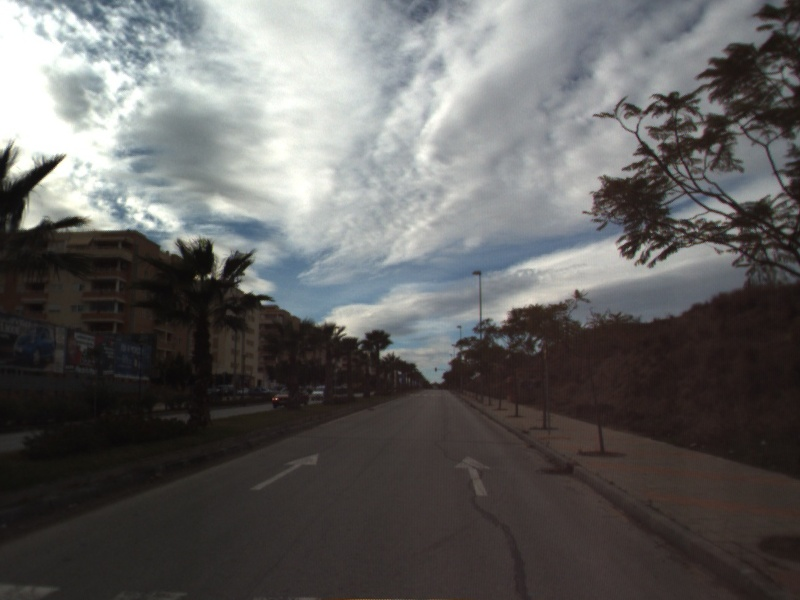STRAIGHT: (249, 451, 322, 492), (452, 454, 493, 498)
